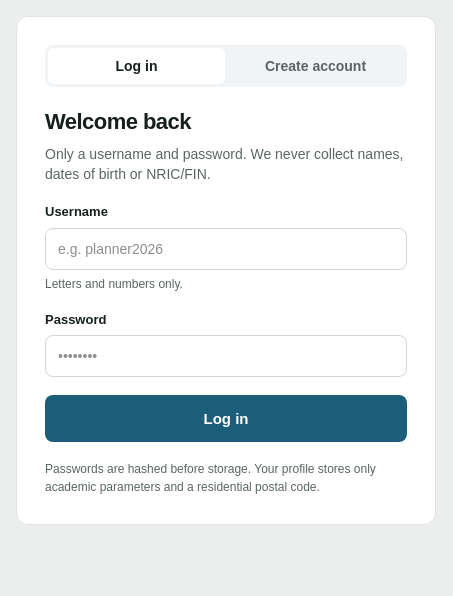
Test: LoginView (UC-2.1, UC-2.2) › login form › shows the server’s message for wrong credentials and stays on the page
Type "planner2026" into the field labelled "Username" at (226,248), box x1=45 y1=228 x2=407 y2=270
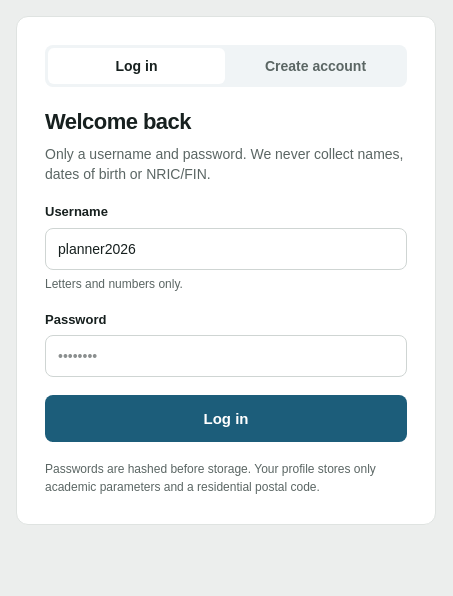
Type "wrongpass1!" into the password field labelled "Password" at (226,356), box x1=45 y1=335 x2=407 y2=377
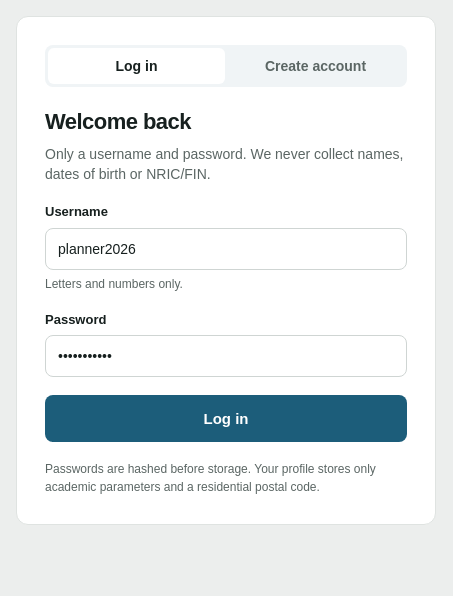
Submit the form
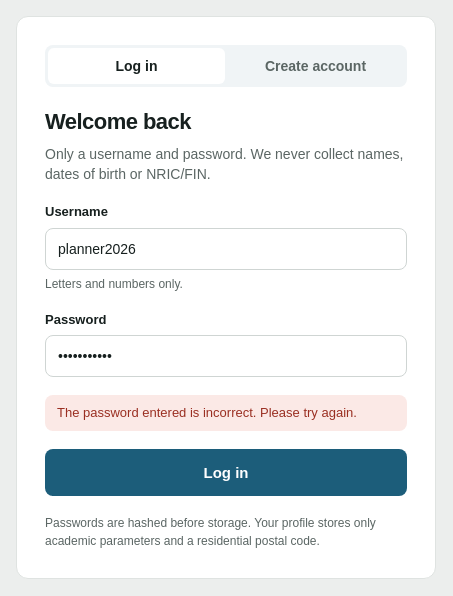
Expected: the message "The password entered is incorrect. Please try again." is shown, x1=45 y1=395 x2=407 y2=430
